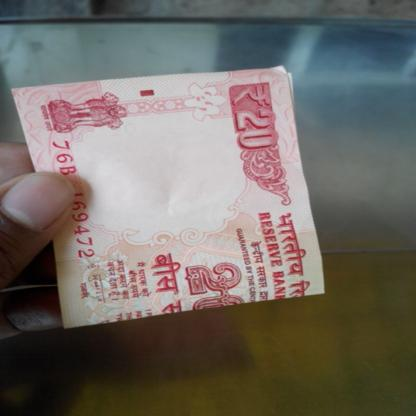Old20Front: (30, 79, 297, 323)
